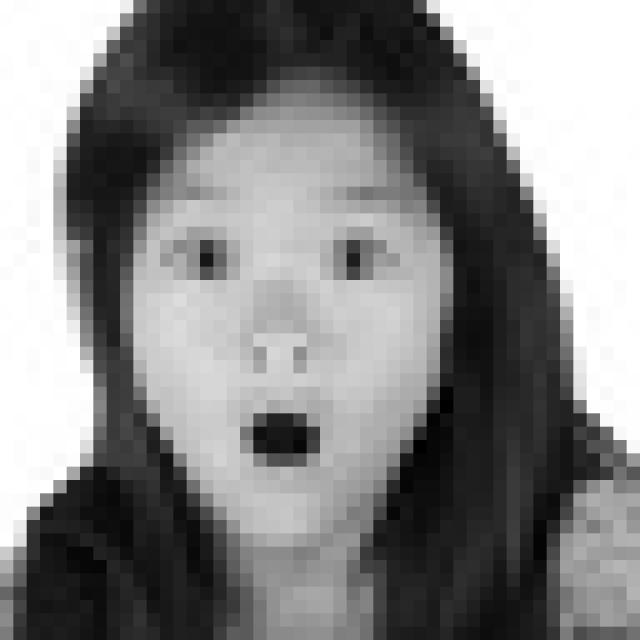surprise: (147, 172, 431, 482)
